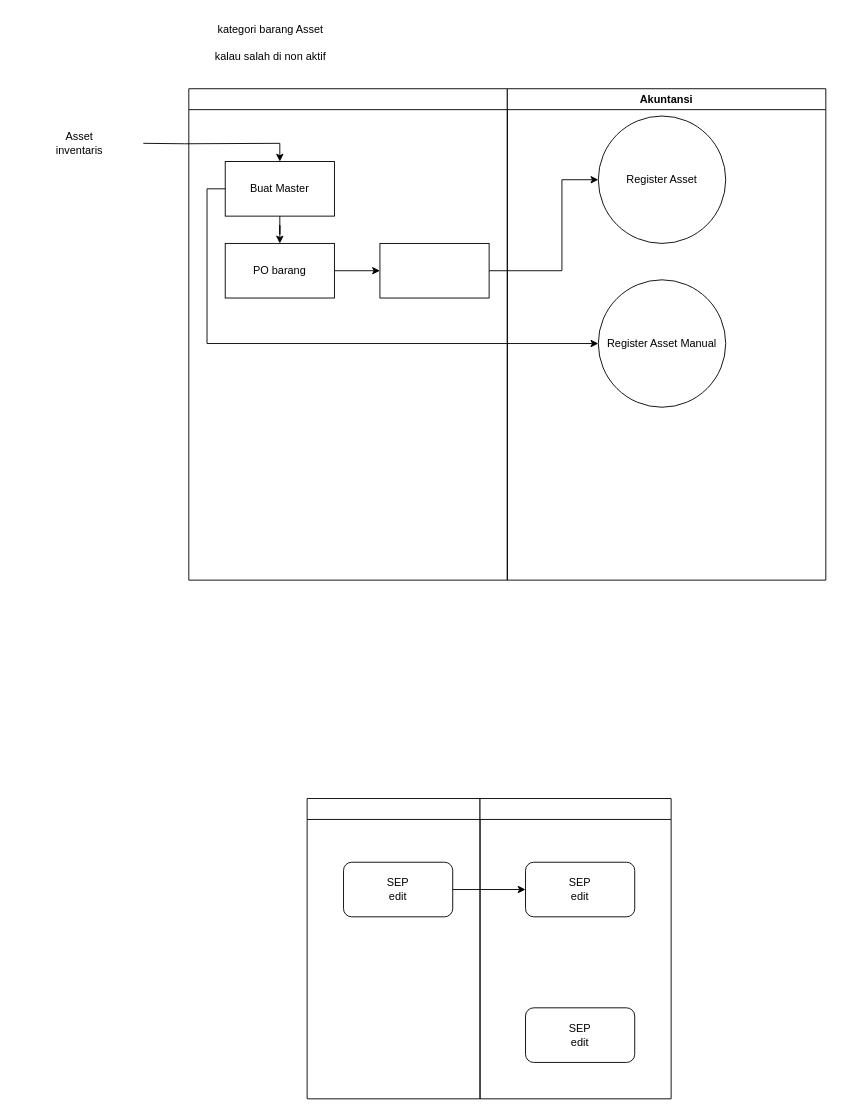
The diagram is 842 pixels wide and 1115 high, and some of its shapes have lost their labels. Here are the shapes that lost their labels. From the top down, the box of each, then its label:
(379, 243, 489, 298): penerimaan barang GRN
(188, 88, 507, 580): Gudang
(306, 798, 480, 1099): HC
(479, 798, 671, 1099): Eklaim
